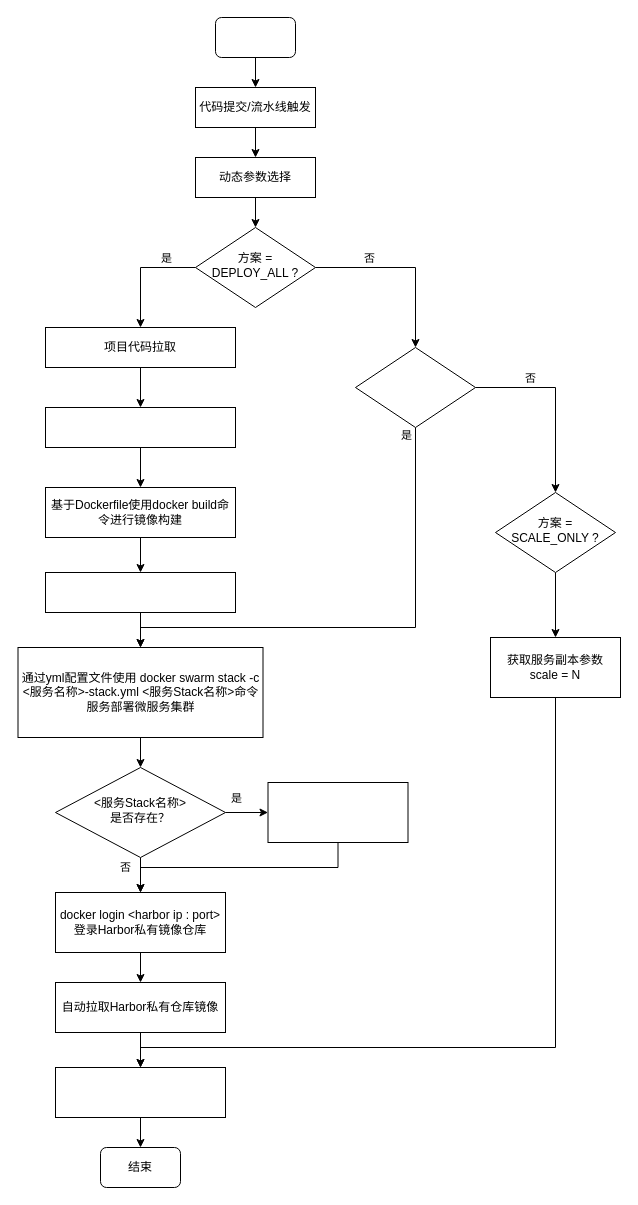
This 638x1205 diagram has some shape labels left out. Here are the shapes that lost their labels. From the top down, the centre of each, then its label:
At [255,37]: "开始".
At [415,387]: "方案 = DEPLOY_ONLY ?".
At [140,427]: "maven项目 微服务代码编译".
At [140,592]: "镜像推送到Harbor私有仓库".
At [337,812]: "将对应服务副本 缩放到0".
At [140,1092]: "按选定副本数启动微服务".
